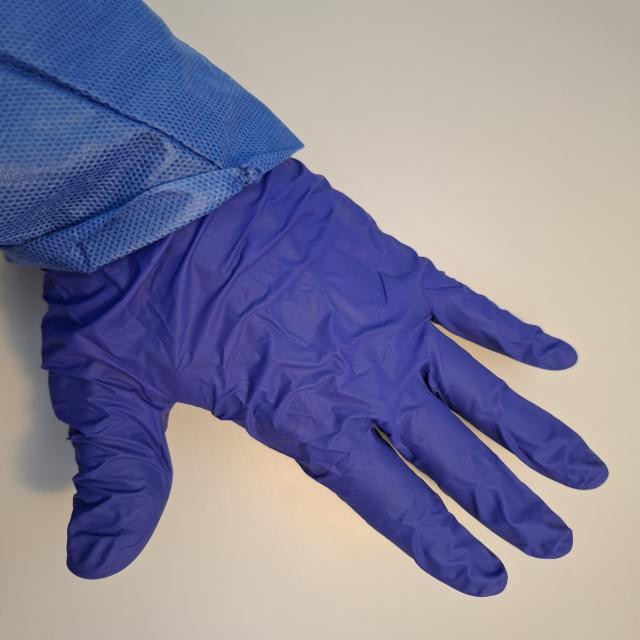glove_on: (28, 123, 615, 599)
